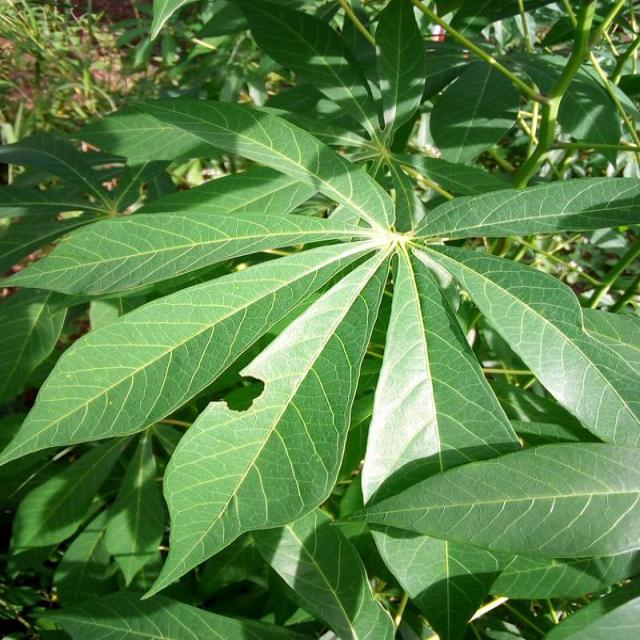cassava leaf: (1, 1, 638, 637), (139, 240, 391, 601)
